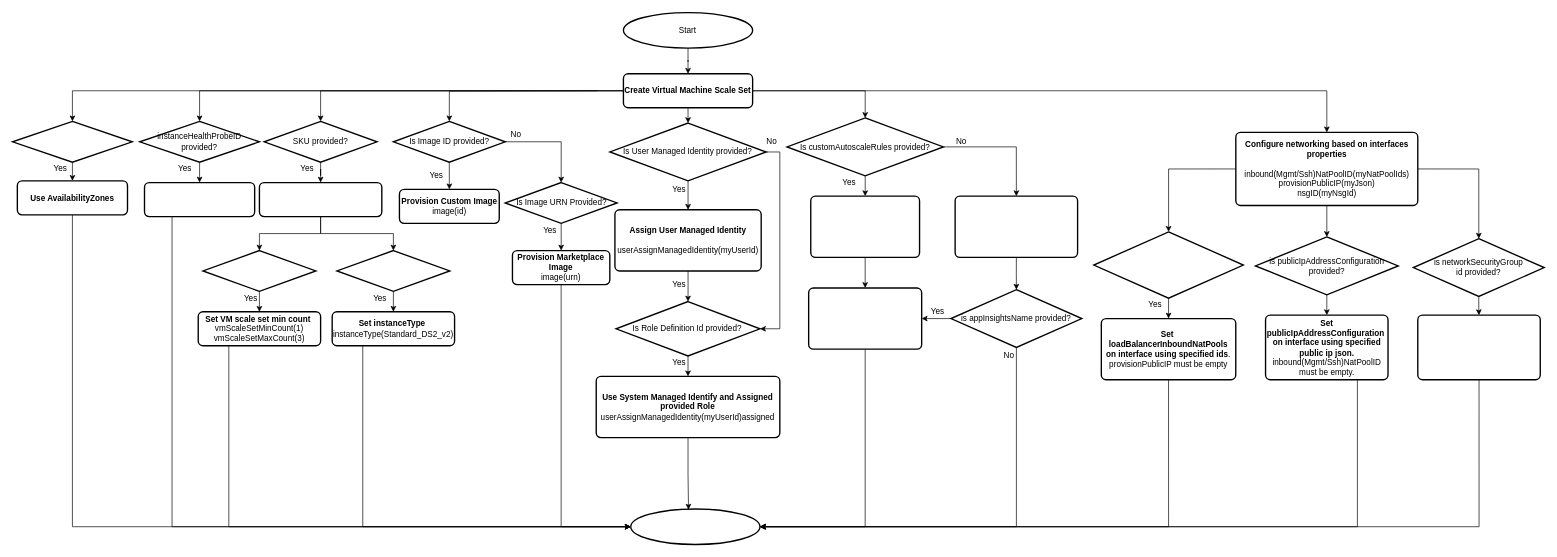
This 1557x557 diagram has some shape labels left out. The box of each missing label's shape, as (x1, y1, x2, y2) in pixels:
capacity provided?: (202, 250, 316, 292)
Configure App Insights: (808, 287, 922, 350)
Configure AutoscaleSettings with provided Rules: (810, 195, 920, 258)
Create Upgrade Policy upgradePolicy(Rolling): (143, 182, 255, 217)
End: (630, 508, 760, 545)
instanceType provided?: (336, 250, 450, 292)
is l oadBalancerInboundNatPools provided?: (1093, 231, 1244, 299)
Set networkSecurityGroup using specified id.: (1417, 314, 1541, 380)
Use classic AutoscaleSettings Rules based on CPU and Throughput thresholds: (954, 195, 1078, 258)
Utilize SKU: (258, 182, 382, 217)
Zones provided?: (12, 120, 133, 163)
